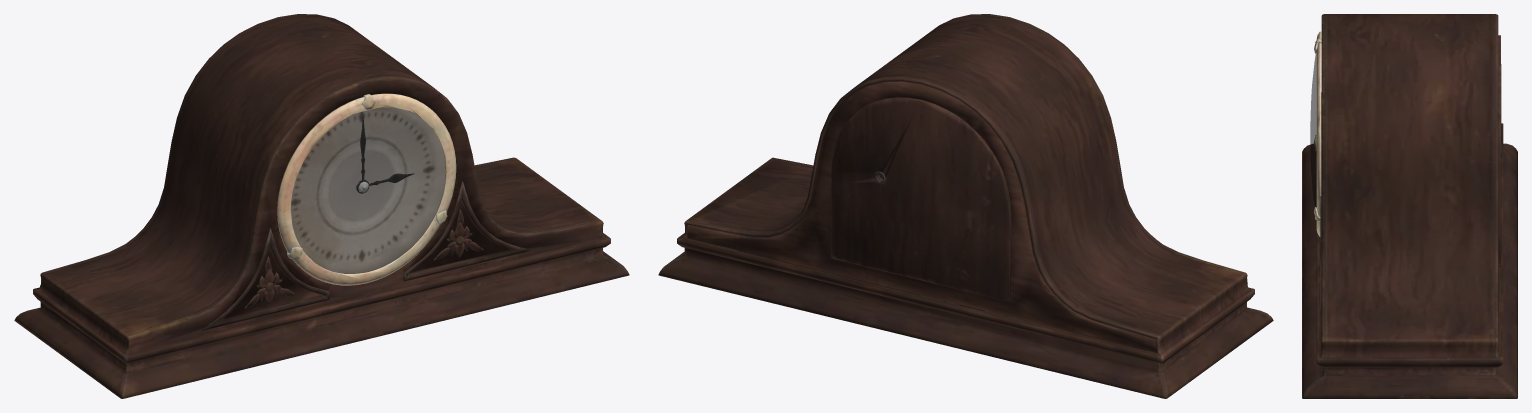
File: mantel_clock_01.glb
3 renders of one model, left to right at view 1: azimuth 30°, elevation 25°; view 2: azimuth 150°, elevation 25°; view 3: azimuth 270°, elevation 25°, orthographic.
Visible parts, largest first — view 1: mantel_clock_01, mantel_clock_01_glass; view 2: mantel_clock_01; view 3: mantel_clock_01, mantel_clock_01_glass.
Part boxes in pixels (bbox=[...]): mantel_clock_01: bbox=[14, 14, 629, 398]; mantel_clock_01_glass: bbox=[291, 107, 445, 273]; mantel_clock_01: bbox=[658, 14, 1273, 398]; mantel_clock_01: bbox=[1302, 14, 1517, 398]; mantel_clock_01_glass: bbox=[1310, 53, 1316, 207].
Size of the model in its own units: 0.3423 by 0.1605 by 0.126.
2 materials, 2 textured.
